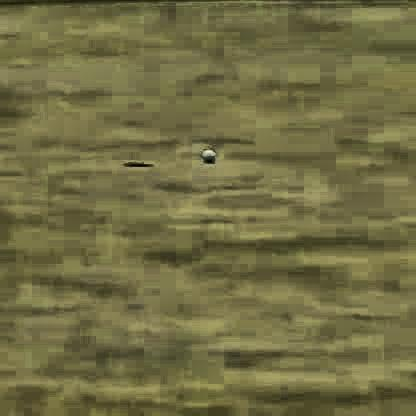golfball: (200, 145, 213, 158)
